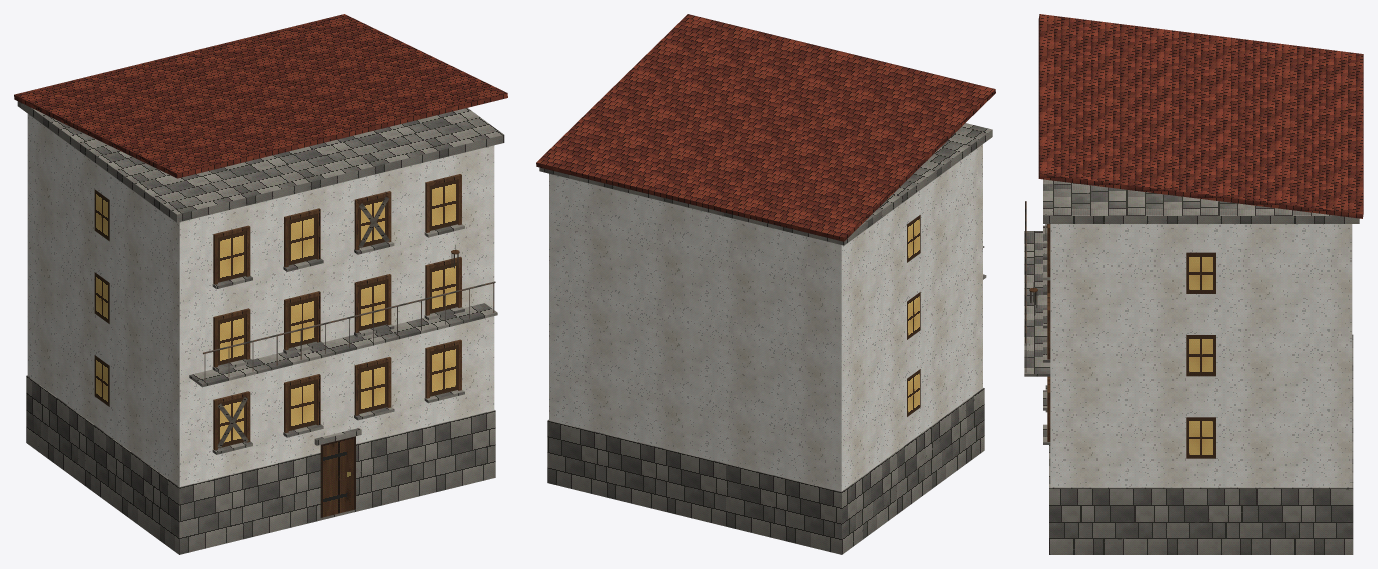
Rendered from casa_cafe.obj.
The picture shows the model from 3 angles, left to right: view 1: azimuth 30°, elevation 25°; view 2: azimuth 150°, elevation 25°; view 3: azimuth 270°, elevation 25°; orthographic projection. The views are drawn at different scales.
Visible parts, largest first — view 1: casa_cafe; view 2: casa_cafe; view 3: casa_cafe.
Boxes of the visible parts, x1,y1,x2,y2 form: casa_cafe: (14, 14, 507, 554); casa_cafe: (536, 14, 995, 554); casa_cafe: (1024, 14, 1363, 554).
Size of the model in its own units: 10.3 by 11.51 by 9.21.
9 materials, 9 textured.
